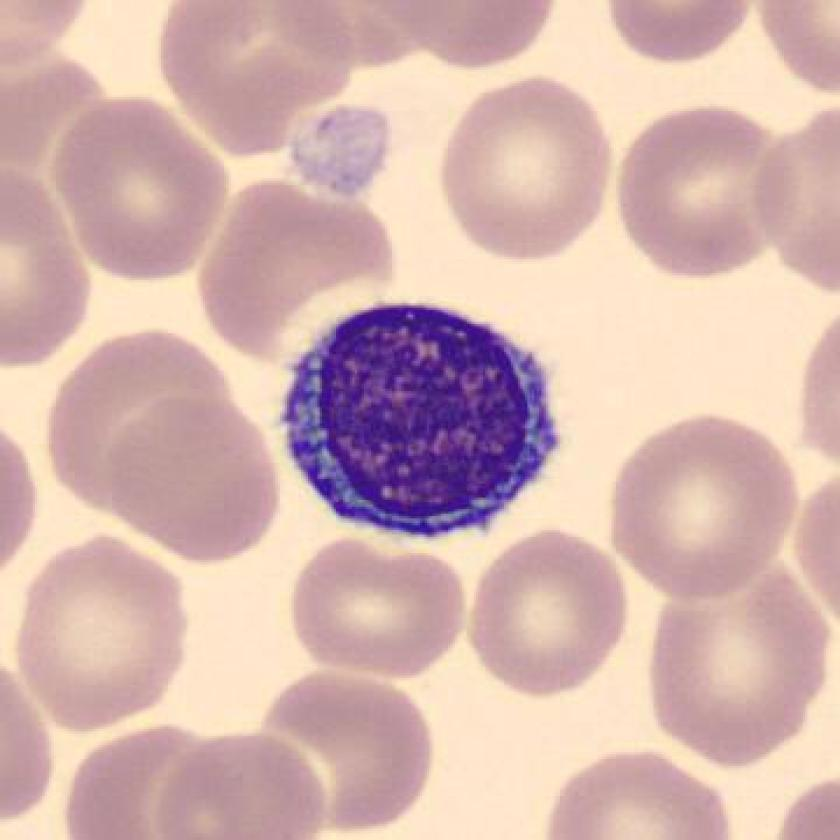lymphocyte: (269, 286, 580, 563)
